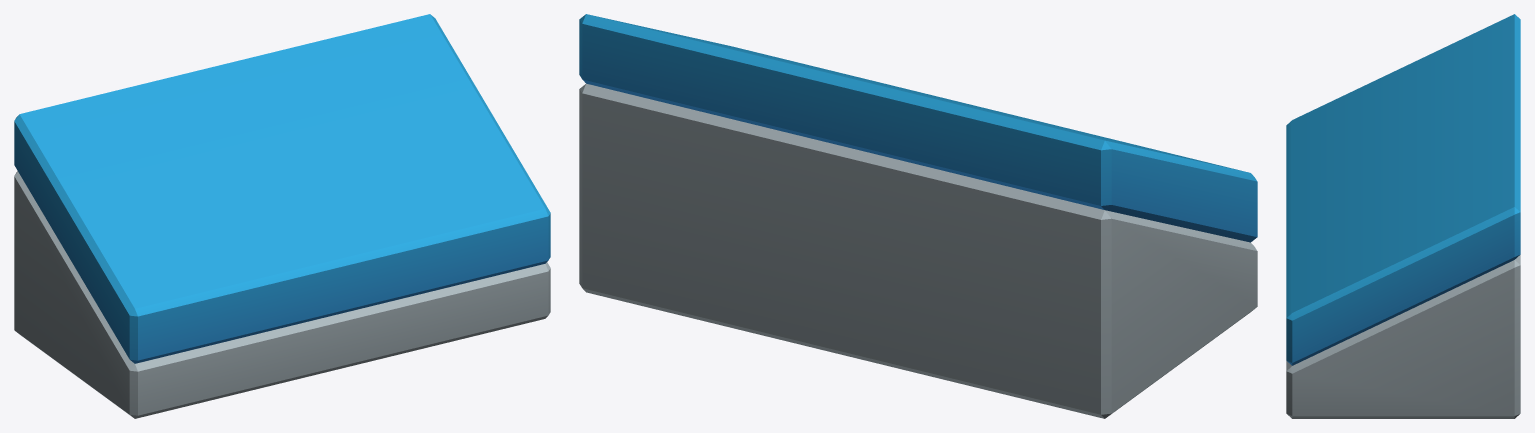
File: platform_slope_4x2x2_blue.glb
The picture shows the model from 3 angles, left to right: view 1: azimuth 30°, elevation 25°; view 2: azimuth 150°, elevation 25°; view 3: azimuth 270°, elevation 25°; orthographic projection. The views are drawn at different scales.
Parts seen in each view (by area): view 1: platform_slope_4x2x2_blue; view 2: platform_slope_4x2x2_blue; view 3: platform_slope_4x2x2_blue.
Part boxes in pixels (x1=…): platform_slope_4x2x2_blue: x1=14, y1=14, x2=550, y2=418; platform_slope_4x2x2_blue: x1=579, y1=14, x2=1257, y2=418; platform_slope_4x2x2_blue: x1=1286, y1=14, x2=1520, y2=418.
Size of the model in its own units: 4 by 2 by 2.
1 material, 1 textured.
